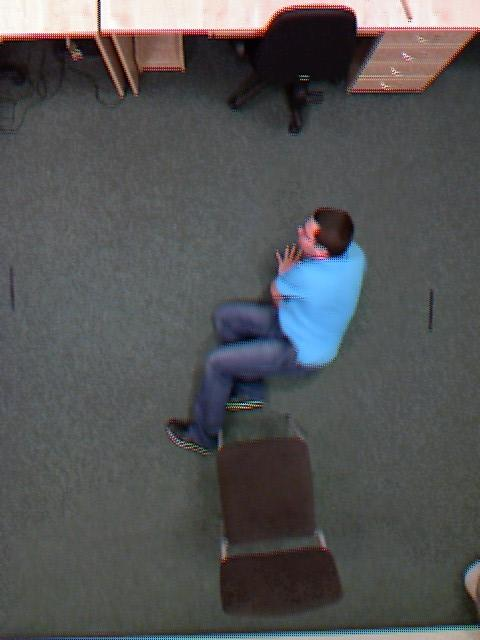fall: (169, 183, 369, 473)
